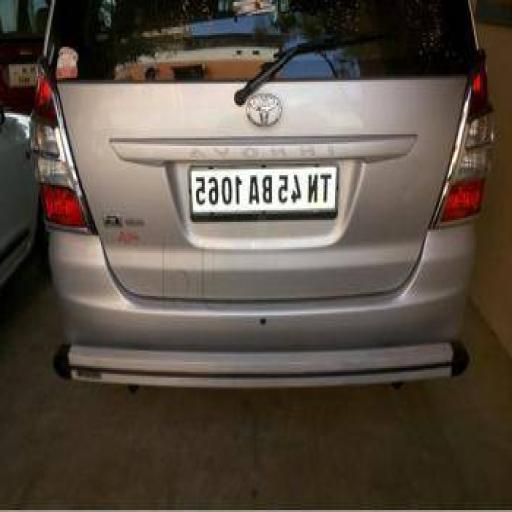License: (191, 163, 347, 224)
